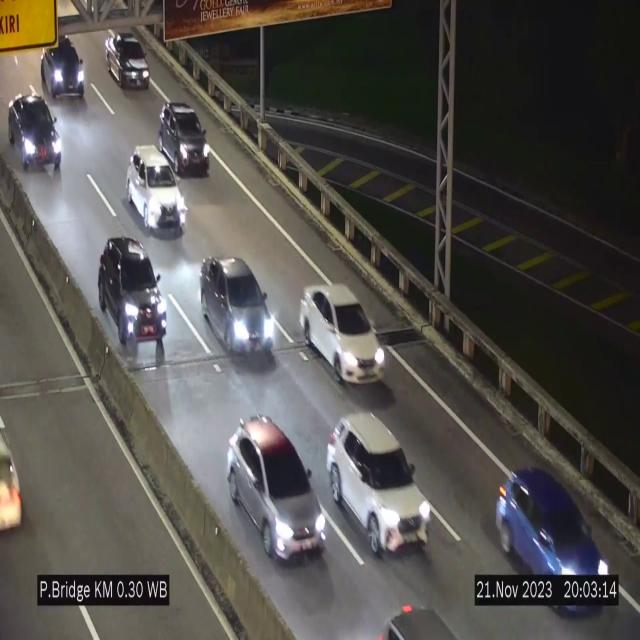Car: (500, 463, 616, 610), (326, 413, 432, 555), (228, 418, 326, 559), (299, 285, 383, 382), (95, 237, 169, 346), (200, 258, 278, 358), (126, 146, 186, 233), (7, 91, 64, 173), (159, 101, 209, 175), (104, 32, 150, 90), (40, 42, 86, 100)
